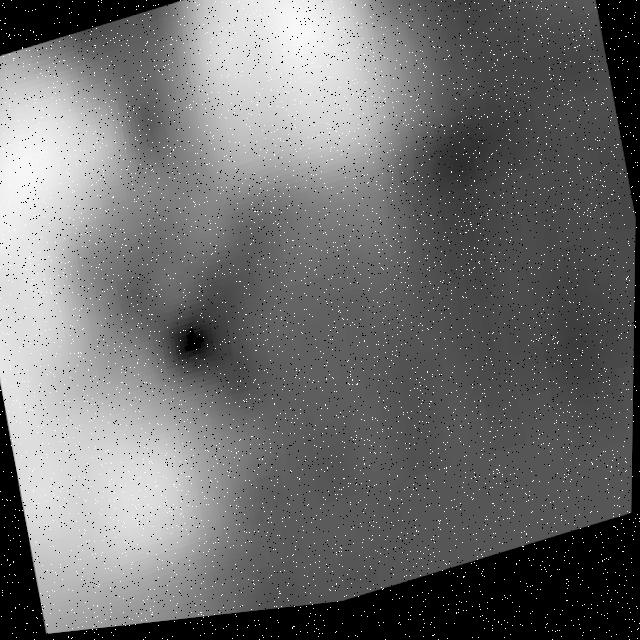person: (1, 3, 276, 640), (147, 1, 492, 285)
